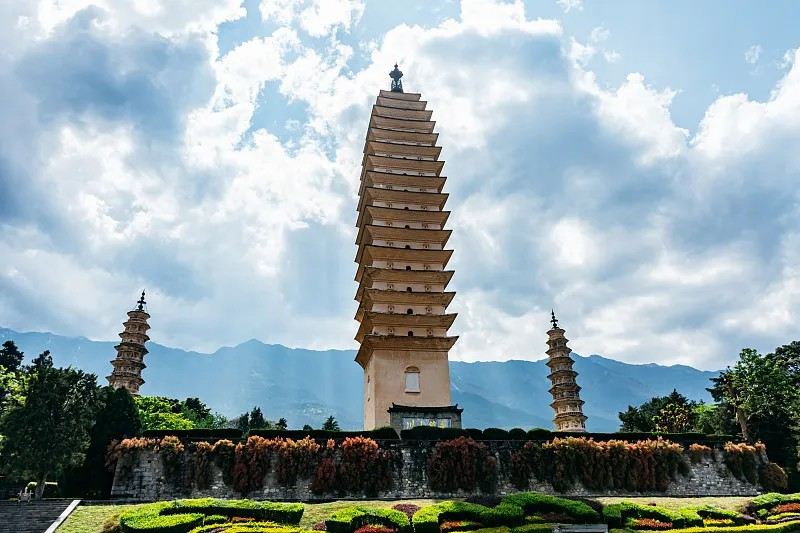ThreePagoda: (355, 63, 458, 428)
